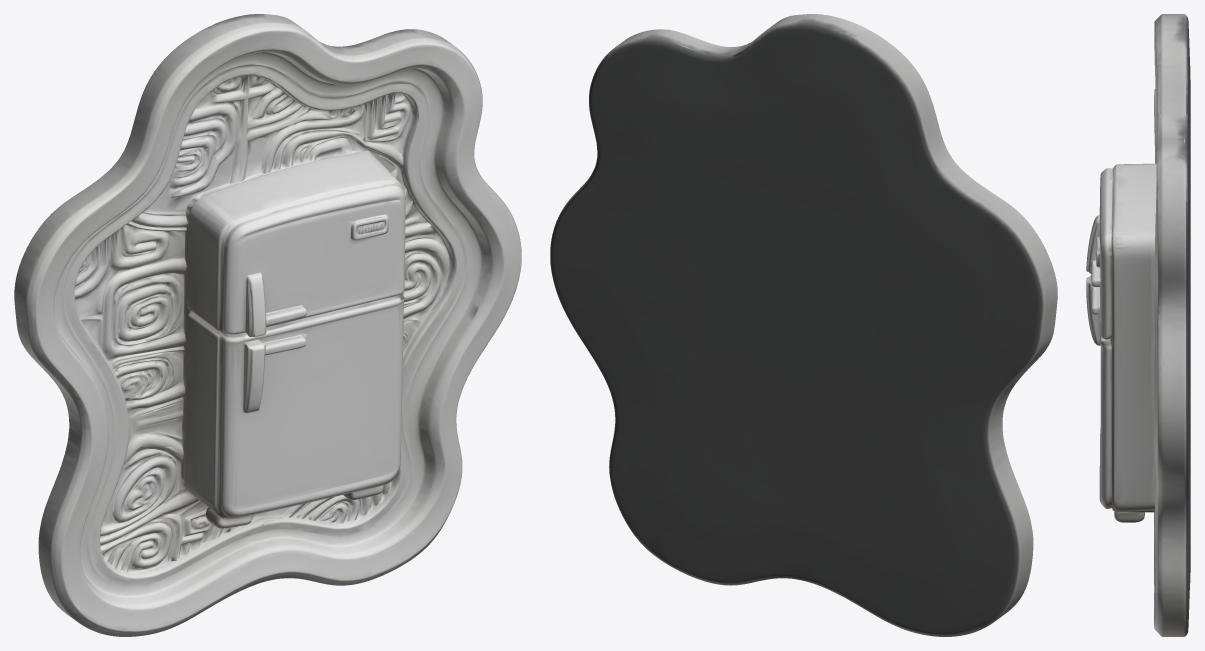
Rendered from 冰箱贴.glb.
3 renders of one model, left to right at view 1: azimuth 30°, elevation 25°; view 2: azimuth 150°, elevation 25°; view 3: azimuth 270°, elevation 25°, orthographic. The views are drawn at different scales.
Visible parts, largest first — view 1: node_0; view 2: node_0; view 3: node_0.
Boxes of the visible parts, x1,y1,x2,y2 form: node_0: (14, 14, 521, 636); node_0: (550, 14, 1057, 636); node_0: (1086, 14, 1190, 636).
Bounding box in the file's own units: 0.9238 × 1.04 × 0.1807.
Materials: 1 (1 with a texture image).
